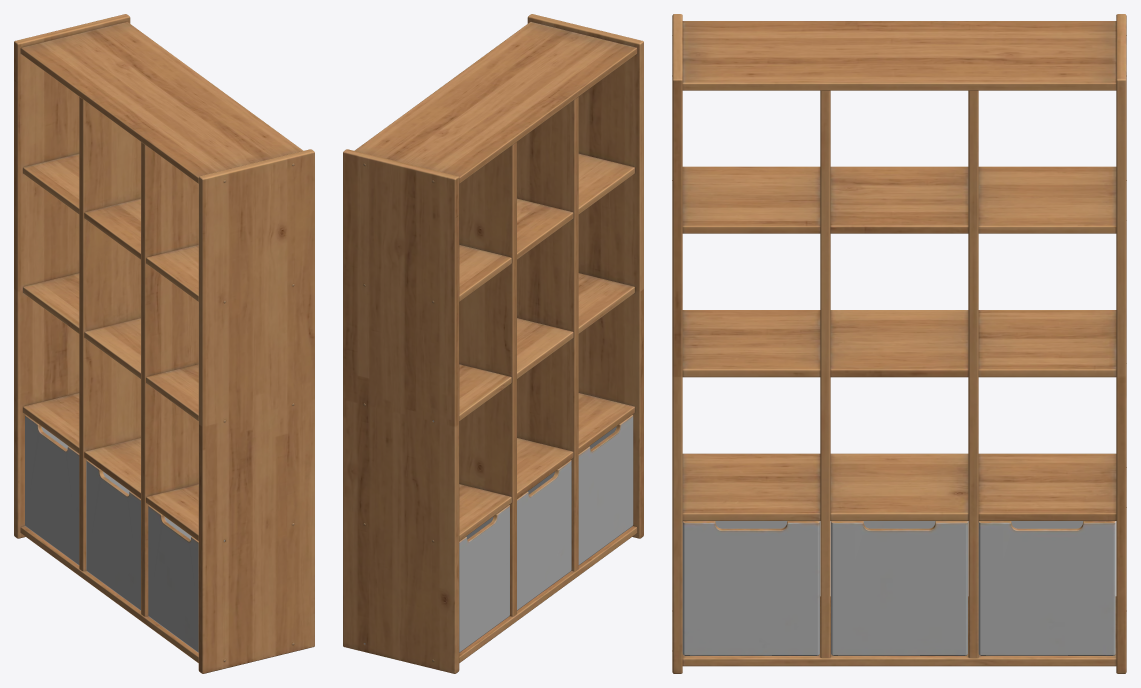
The model's file is cube-display-shelves.glb.
The picture shows the model from 3 angles, left to right: view 1: azimuth 30°, elevation 25°; view 2: azimuth 150°, elevation 25°; view 3: azimuth 270°, elevation 25°; orthographic projection. The views are drawn at different scales.
Parts seen in each view (by area): view 1: wooden_display_shelves_01, wooden_display_shelves_01_drawer_01, wooden_display_shelves_01_drawer_02, wooden_display_shelves_01_drawer_03; view 2: wooden_display_shelves_01, wooden_display_shelves_01_drawer_03, wooden_display_shelves_01_drawer_02, wooden_display_shelves_01_drawer_01; view 3: wooden_display_shelves_01, wooden_display_shelves_01_drawer_03, wooden_display_shelves_01_drawer_01, wooden_display_shelves_01_drawer_02.
Part boxes in pixels (x1,y1,x2,y2): wooden_display_shelves_01: (14, 14, 314, 673); wooden_display_shelves_01_drawer_01: (25, 415, 79, 565); wooden_display_shelves_01_drawer_02: (86, 460, 140, 610); wooden_display_shelves_01_drawer_03: (148, 505, 198, 652); wooden_display_shelves_01: (343, 14, 643, 673); wooden_display_shelves_01_drawer_03: (578, 415, 633, 565); wooden_display_shelves_01_drawer_02: (517, 460, 571, 610); wooden_display_shelves_01_drawer_01: (459, 505, 509, 652); wooden_display_shelves_01: (672, 14, 1126, 673); wooden_display_shelves_01_drawer_03: (682, 521, 819, 655); wooden_display_shelves_01_drawer_01: (978, 521, 1115, 655); wooden_display_shelves_01_drawer_02: (831, 521, 967, 655).
Bounding box in the file's own units: 0.3714 × 1.56 × 1.08.
Materials: 1 (1 with a texture image).
